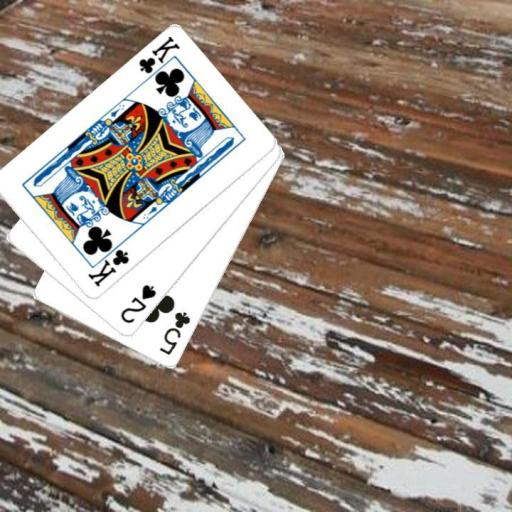2S: (117, 282, 158, 326)
5C: (156, 309, 193, 357)
KC: (135, 34, 181, 86), (85, 238, 131, 289)
